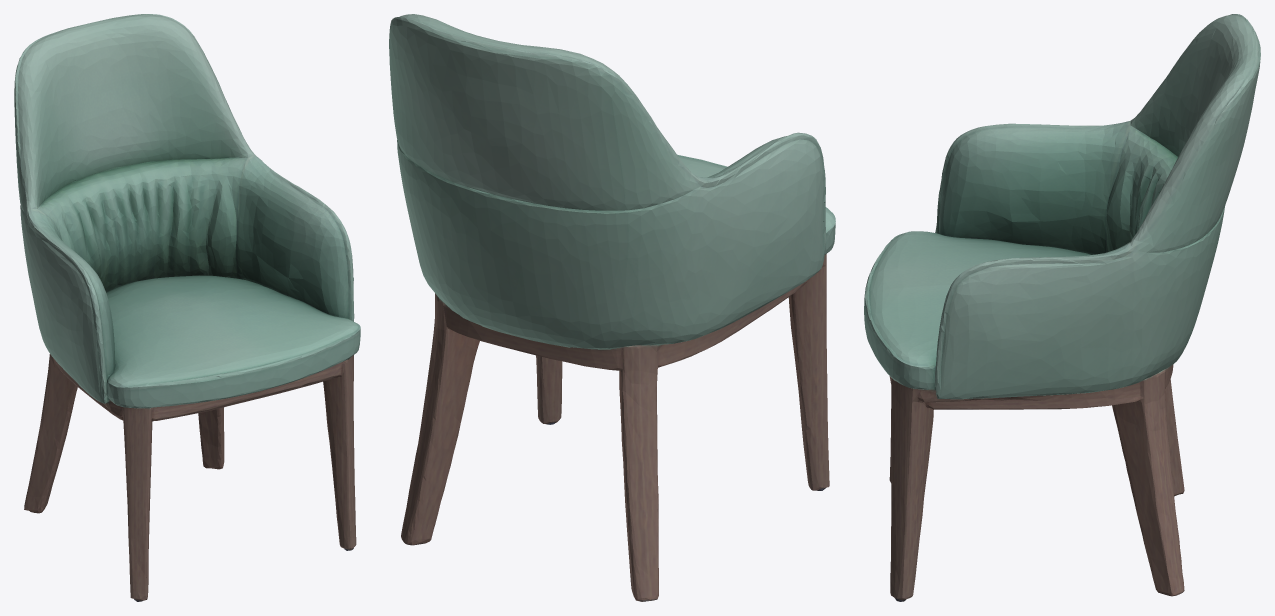
3 views of the same model, side by side, from view 1: azimuth 30°, elevation 25°; view 2: azimuth 150°, elevation 25°; view 3: azimuth 270°, elevation 25° (orthographic). The views are drawn at different scales.
Parts seen in each view (by area): view 1: world; view 2: world; view 3: world.
Part boxes in pixels (left/top/right/bottom): world: left=14, top=14, right=360, bottom=601; world: left=389, top=14, right=835, bottom=601; world: left=864, top=14, right=1260, bottom=601.
Size of the model in its own units: 0.6311 by 1 by 0.7273.
Materials: 1 (1 with a texture image).
